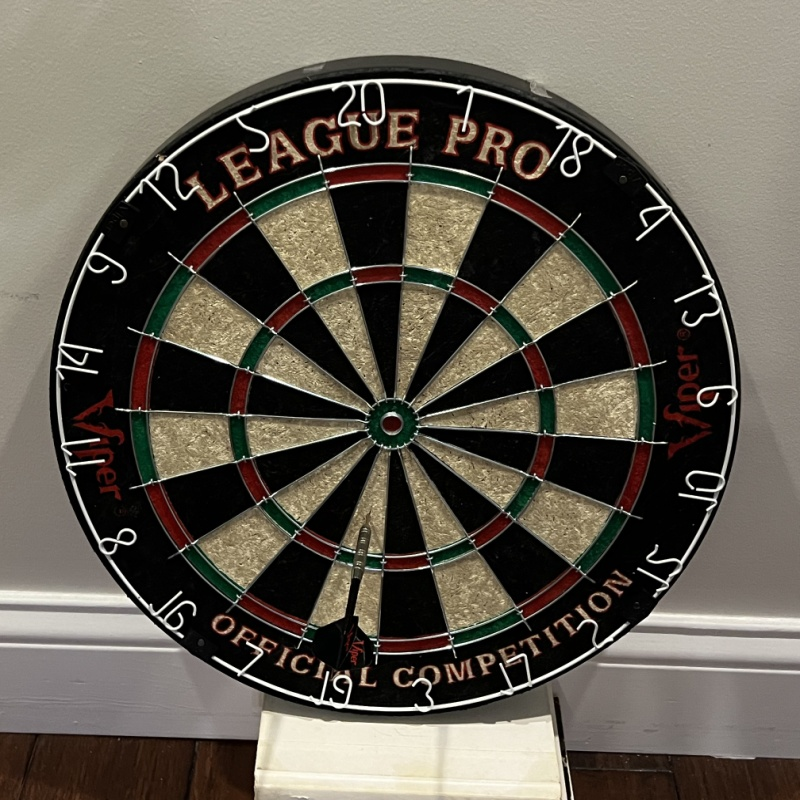dart: (355, 509, 379, 539)
eleven: (59, 437, 106, 475)
six: (696, 385, 740, 407)
three: (409, 678, 436, 713)
twenty: (332, 79, 388, 127)
